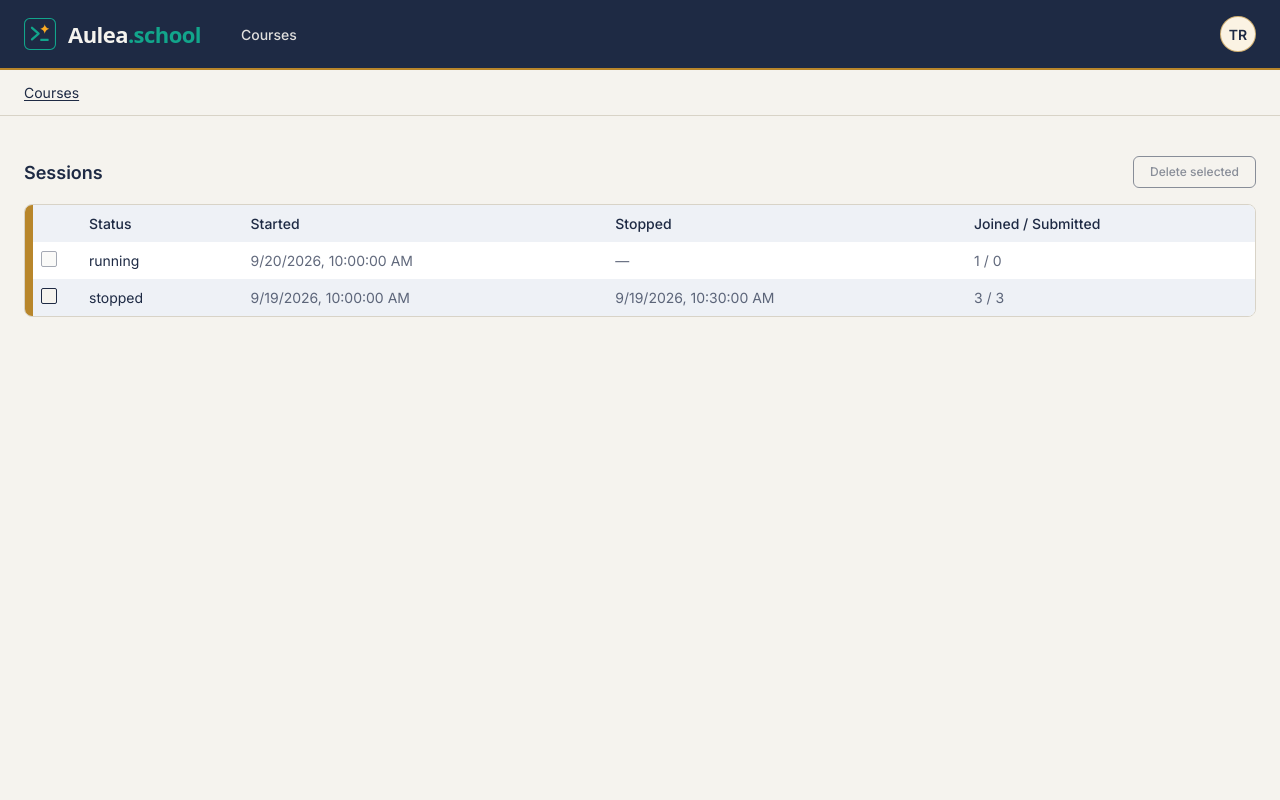
QuizSessionHistoryPage (SESSION-DELETE-001) › cancelling the dialog deletes nothing
This screenshot has width=1280, height=800.
Expected: the text "running" is shown, left=73, top=242, right=234, bottom=279
Click the checkbox named "select session session-old" at (49, 296), box left=41, top=288, right=57, bottom=304
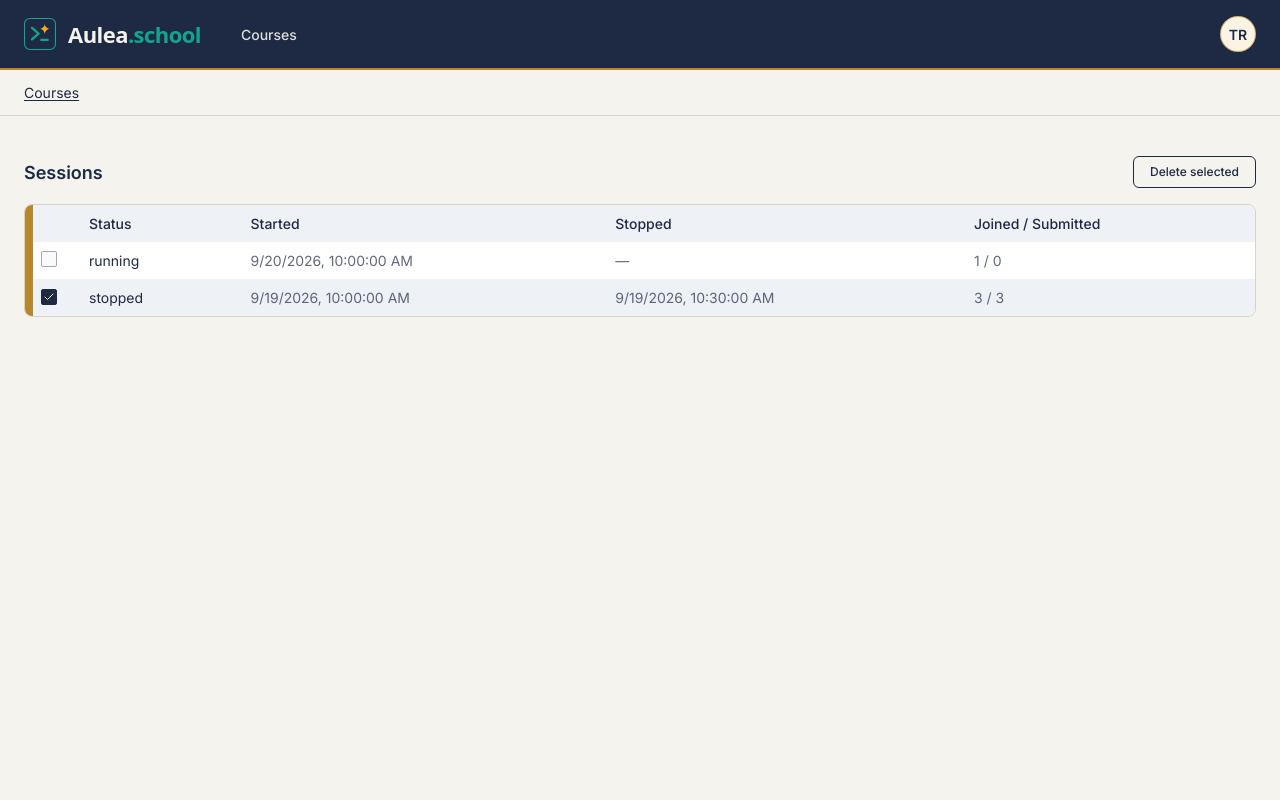
Click the button "Delete selected" at (1194, 172), box left=1133, top=156, right=1256, bottom=188
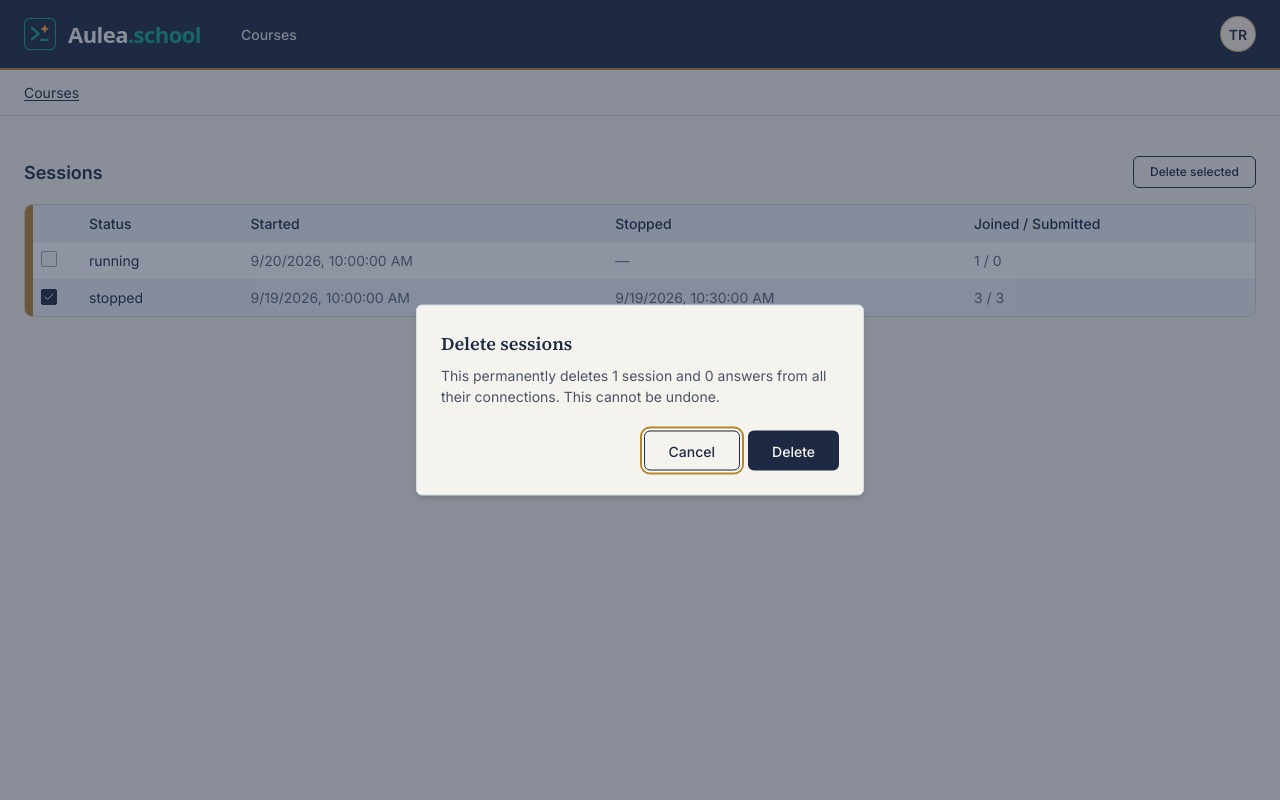
Expected: the dialog shows "1 session and 0 answers", left=441, top=366, right=826, bottom=404
Click the button "Cancel" at (692, 450), box left=644, top=430, right=740, bottom=470
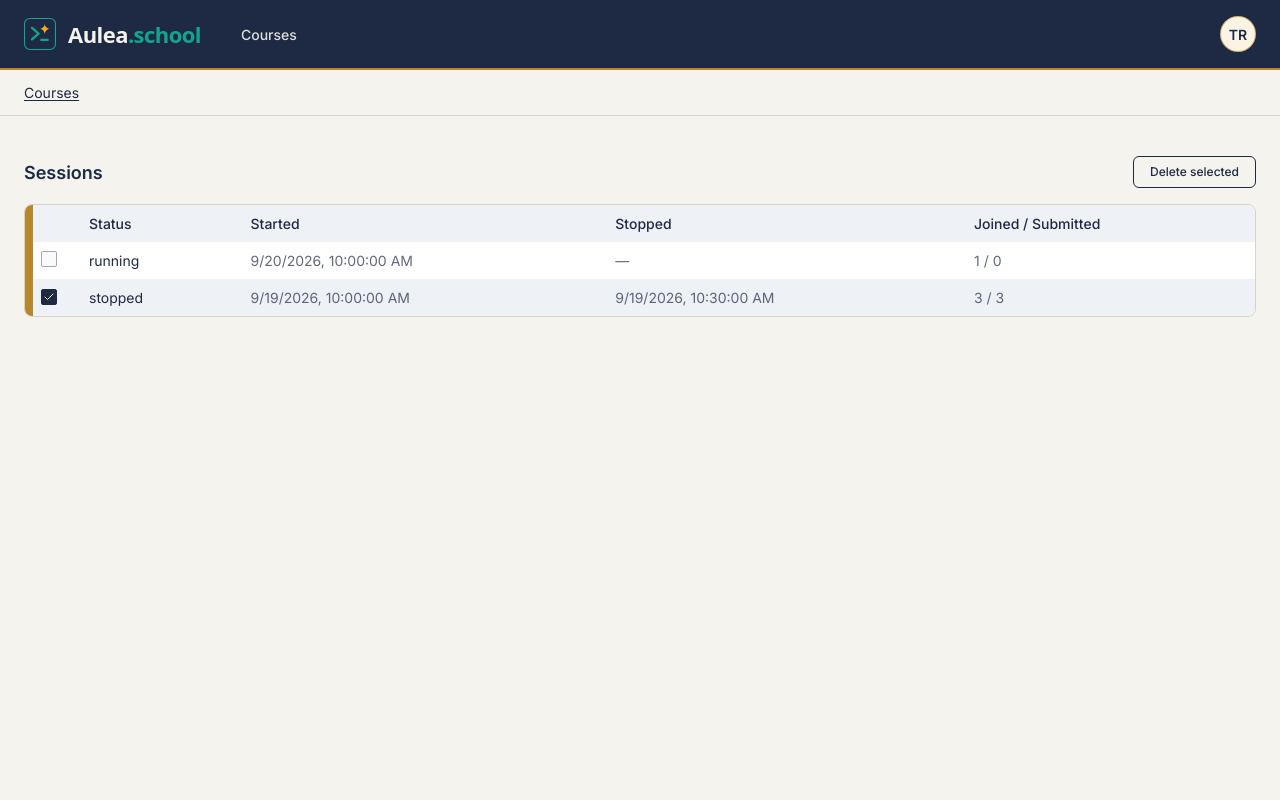
Expected: the text "stopped" is shown, left=73, top=279, right=234, bottom=316
Expected: the dialog is gone
